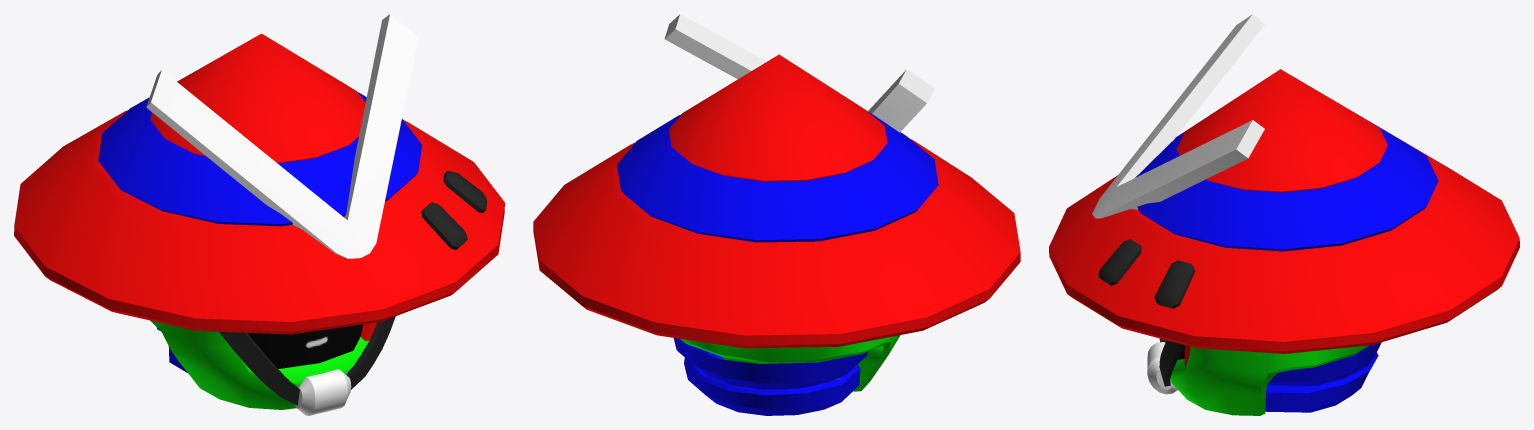
The model's file is Ronin_Head.fbx.
3 renders of one model, left to right at view 1: azimuth 30°, elevation 25°; view 2: azimuth 150°, elevation 25°; view 3: azimuth 270°, elevation 25°, orthographic. The views are drawn at different scales.
Visible parts, largest first — view 1: Samurai_Head; view 2: Samurai_Head; view 3: Samurai_Head.
Part boxes in pixels (x1,y1,x2,y2): Samurai_Head: (14, 14, 504, 415); Samurai_Head: (533, 14, 1020, 415); Samurai_Head: (1049, 14, 1519, 415).
Size of the model in its own units: 48.45 by 36.35 by 48.46.
